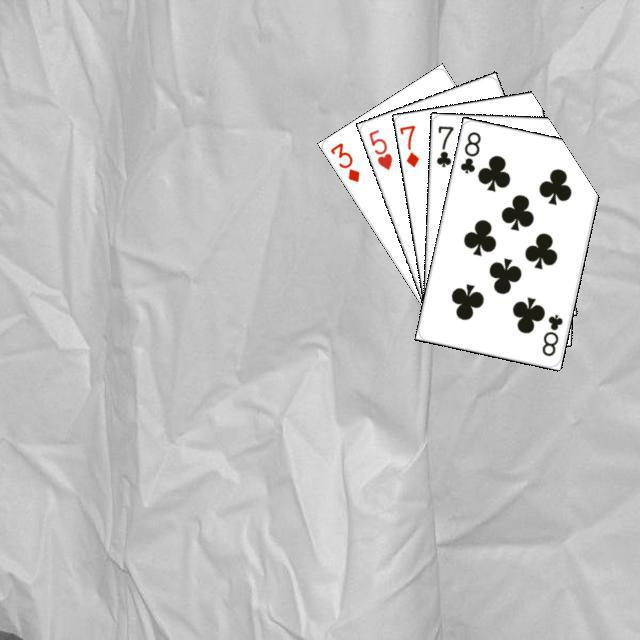3d: (325, 138, 361, 184)
5h: (364, 124, 394, 172)
7c: (432, 121, 455, 169)
7d: (396, 120, 421, 169)
8c: (455, 127, 483, 175), (537, 309, 564, 358)
